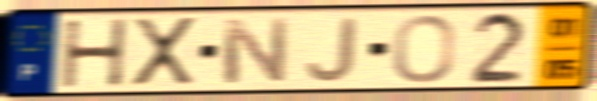2: (467, 9, 529, 86)
H: (60, 16, 132, 91)
J: (303, 16, 360, 85)
N: (218, 16, 291, 87)
O: (390, 12, 459, 85)
X: (130, 15, 199, 90)
